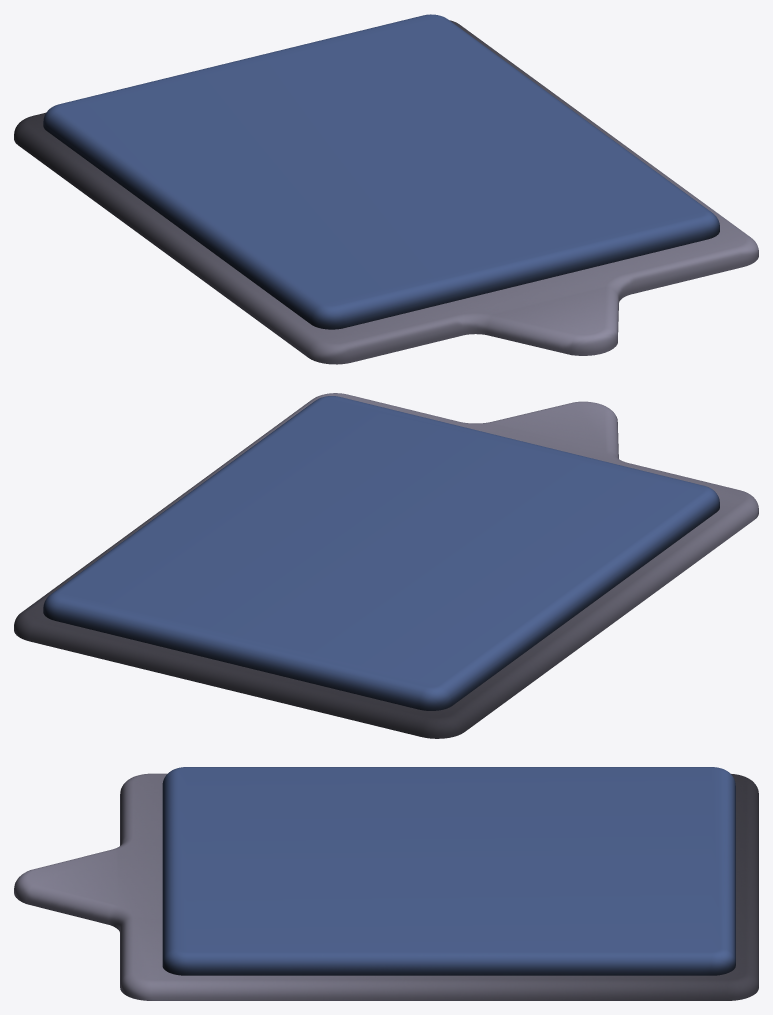
File: BuildProcessHud.fbx
The picture shows the model from 3 angles, top to bottom: view 1: azimuth 30°, elevation 25°; view 2: azimuth 150°, elevation 25°; view 3: azimuth 270°, elevation 25°; orthographic projection.
Parts seen in each view (by area): view 1: Main; view 2: Main; view 3: Main.
Boxes of the visible parts, left/top/right/bottom form: Main: left=14, top=14, right=758, bottom=364; Main: left=14, top=393, right=758, bottom=738; Main: left=14, top=767, right=758, bottom=1000.
Bounding box in the file's own units: 189 × 275 × 13.24.
Materials: 1 (1 with a texture image).
